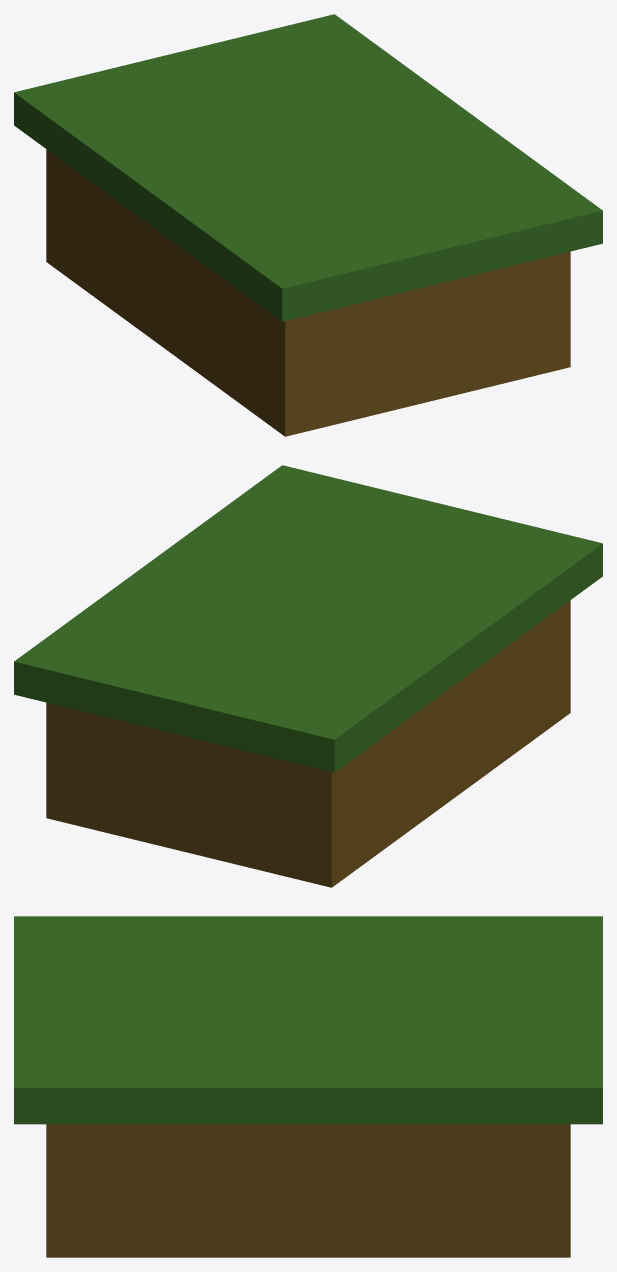
The model's file is Plataforma_tierra.fbx.
3 renders of one model, top to bottom at view 1: azimuth 30°, elevation 25°; view 2: azimuth 150°, elevation 25°; view 3: azimuth 270°, elevation 25°, orthographic. The views are drawn at different scales.
Parts seen in each view (by area): view 1: pCube7, pCube6; view 2: pCube7, pCube6; view 3: pCube7, pCube6.
Boxes of the visible parts, x1=… form: pCube7: x1=14, y1=14, x2=602, y2=321; pCube6: x1=46, y1=149, x2=570, y2=436; pCube7: x1=14, y1=465, x2=602, y2=772; pCube6: x1=46, y1=600, x2=570, y2=887; pCube7: x1=14, y1=916, x2=602, y2=1124; pCube6: x1=46, y1=1124, x2=570, y2=1257.
Size of the model in its own units: 9.53 by 4.63 by 13.82.
